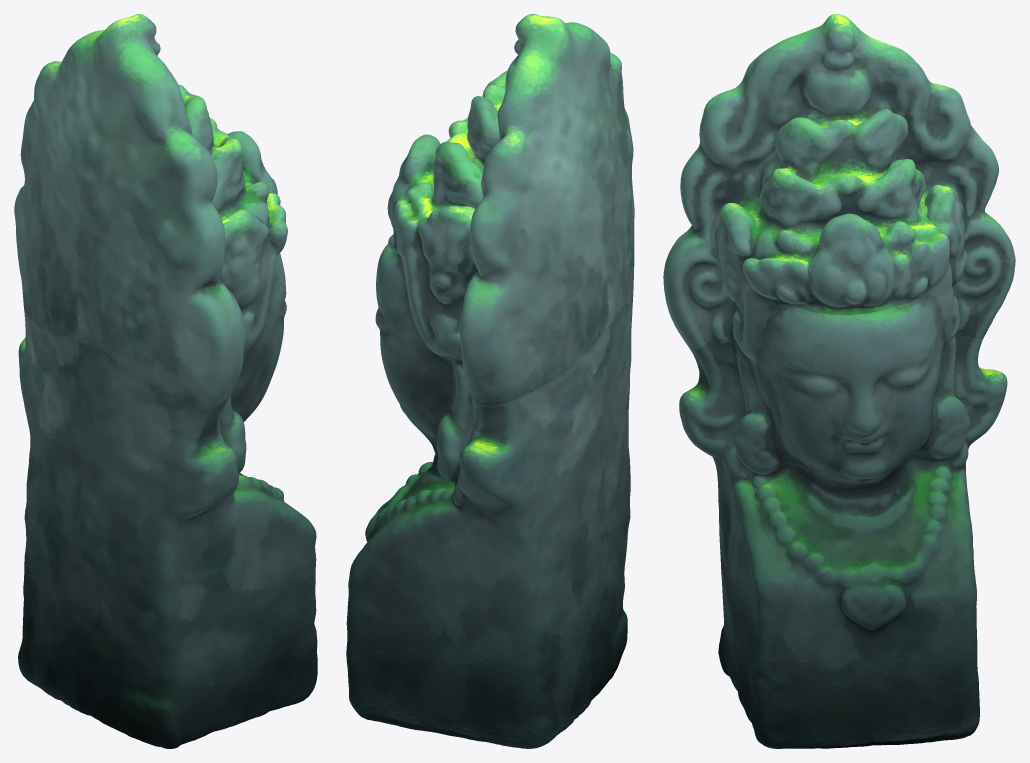
The model's file is buddha_face_statue__ghibli_style.glb.
The picture shows the model from 3 angles, left to right: view 1: azimuth 30°, elevation 25°; view 2: azimuth 150°, elevation 25°; view 3: azimuth 270°, elevation 25°; orthographic projection. The views are drawn at different scales.
Parts seen in each view (by area): view 1: Retopo_BuddhaBust; view 2: Retopo_BuddhaBust; view 3: Retopo_BuddhaBust.
Part boxes in pixels (bbox=[...]): Retopo_BuddhaBust: bbox=[14, 14, 317, 748]; Retopo_BuddhaBust: bbox=[346, 14, 634, 748]; Retopo_BuddhaBust: bbox=[663, 14, 1015, 748].
Bounding box in the file's own units: 106 × 321 × 155.
Materials: 1 (1 with a texture image).
